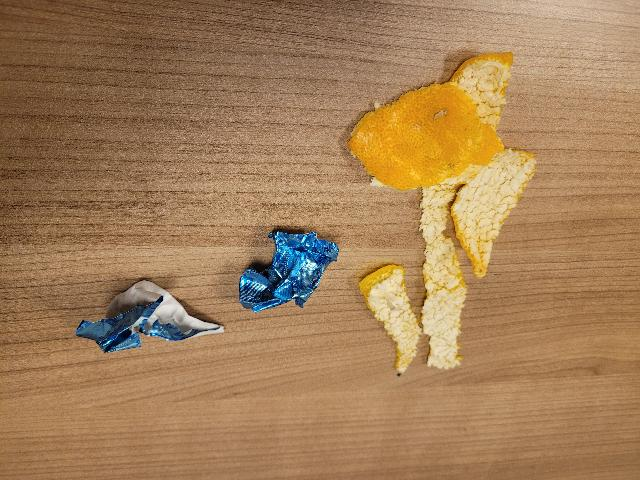Organik: (344, 37, 544, 383)
Plastik: (69, 280, 227, 368), (232, 221, 346, 335)
